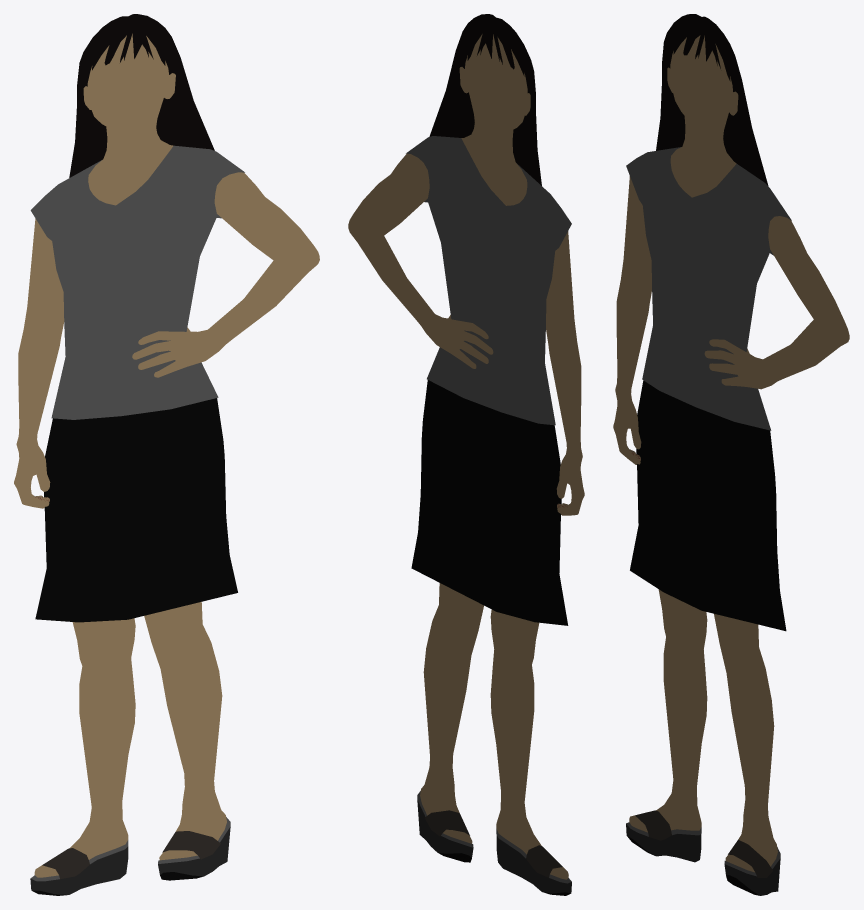
3 renders of one model, left to right at view 1: azimuth 30°, elevation 25°; view 2: azimuth 150°, elevation 25°; view 3: azimuth 330°, elevation 25°, orthographic.
Visible parts, largest first — view 1: Sophie (×12); view 2: Sophie (×12); view 3: Sophie (×12).
Boxes of the visible parts, left/top/right/bottom form: Sophie (×12): left=14, top=14, right=319, bottom=894; Sophie (×12): left=348, top=14, right=584, bottom=893; Sophie (×12): left=613, top=14, right=849, bottom=895.
Size of what is drawn, in the model's own units: 21.79 by 4.55 by 66.64.
